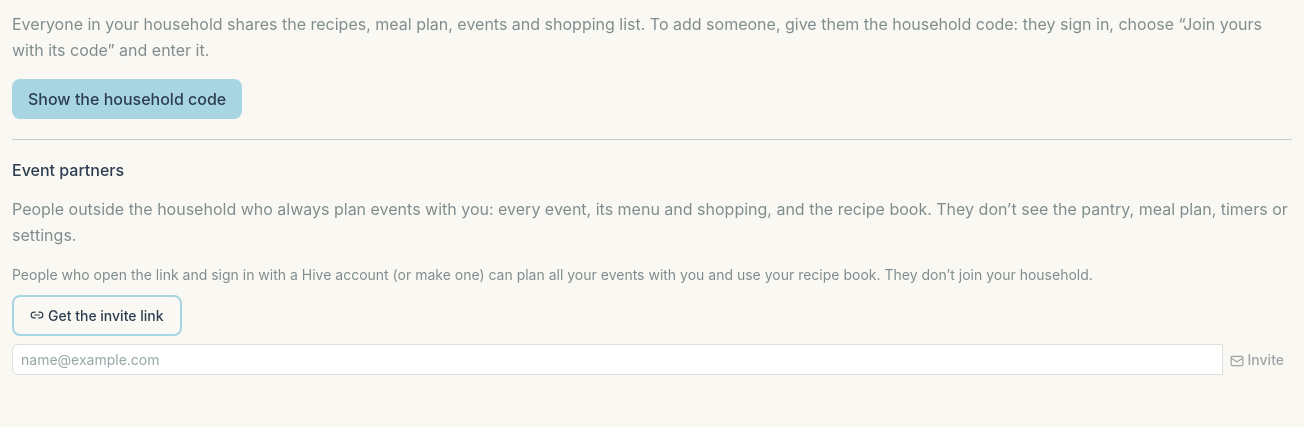
Test: shows the household code, and makes a new one
The image size is (1304, 427).
Click the button "Show the household code".
click(127, 99)  # box [12, 79, 242, 119]
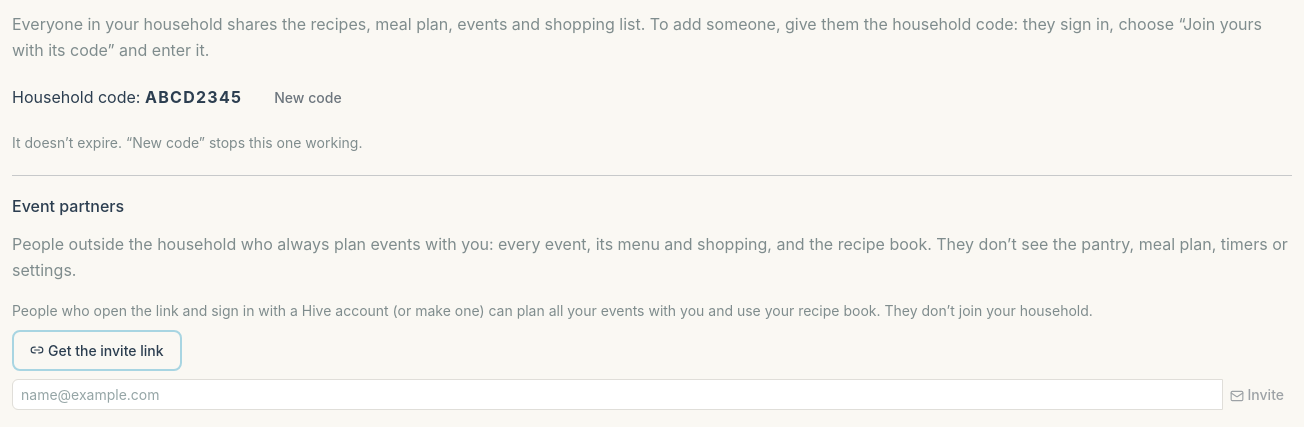
Expected: the text "ABCD2345" is shown, [145, 87, 242, 107]
Click the button "New code".
click(308, 98)  # box [258, 79, 358, 116]
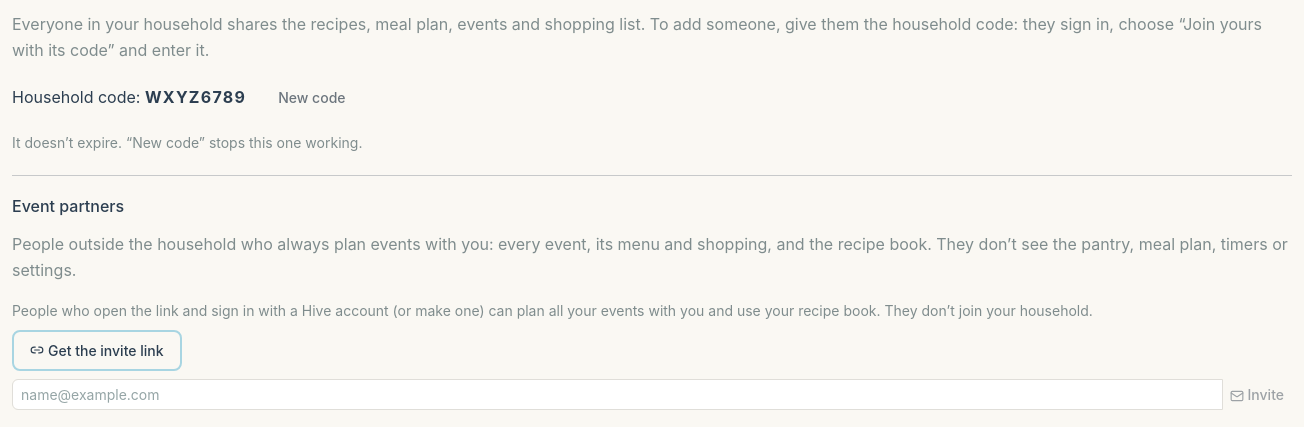
Expected: the text "WXYZ6789" is shown, [145, 87, 246, 107]
